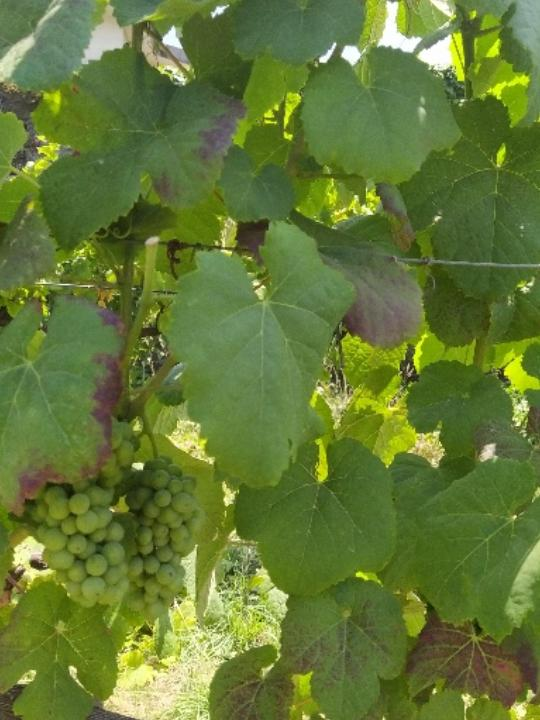grape: (30, 418, 140, 604), (130, 456, 205, 625)
